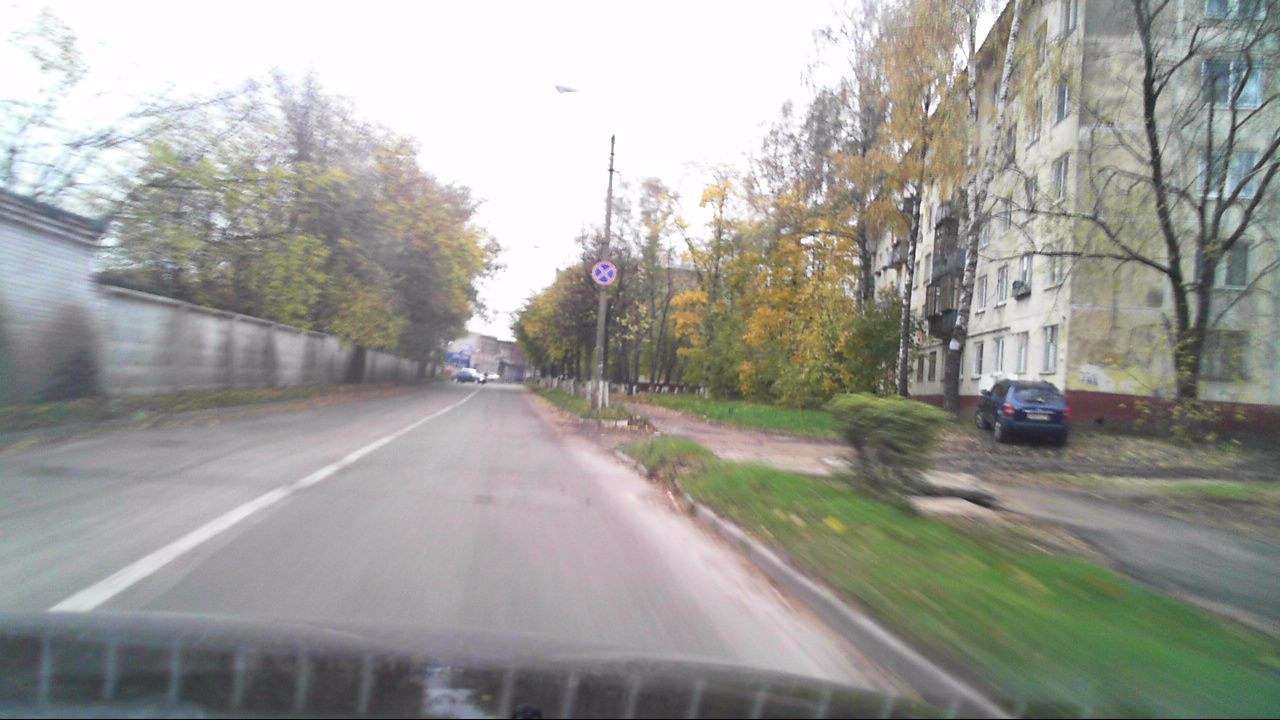No Parking: (591, 260, 616, 284)
